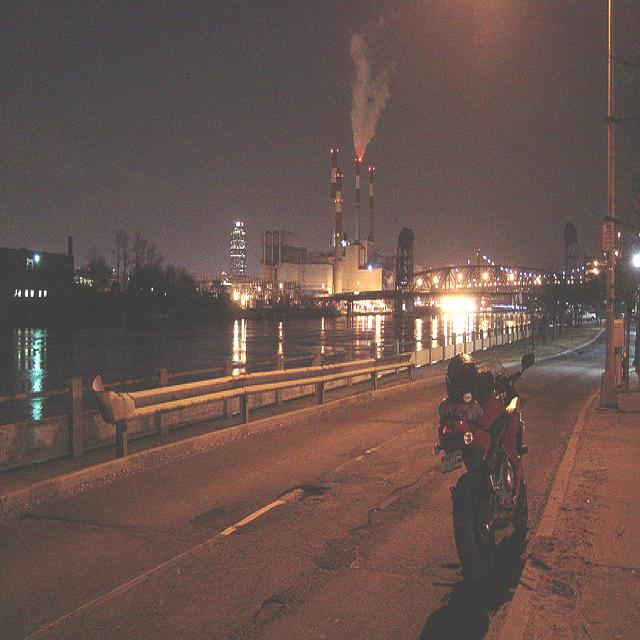Motorbike: (439, 349, 530, 566)
